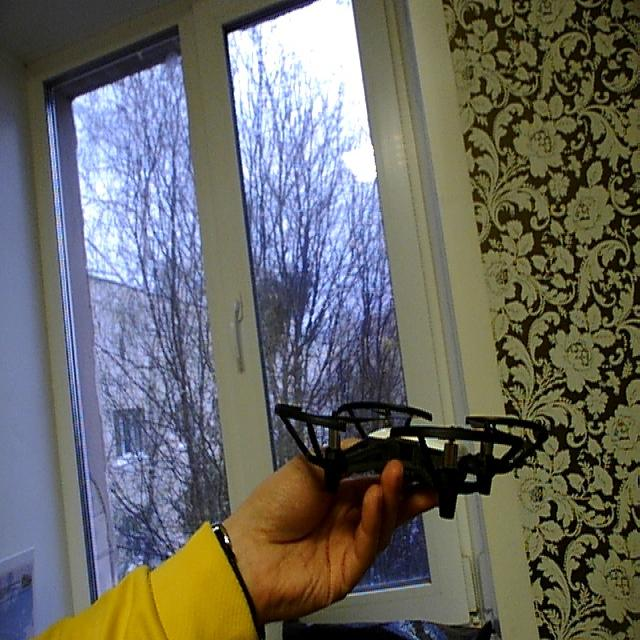drone: (274, 367, 554, 538)
